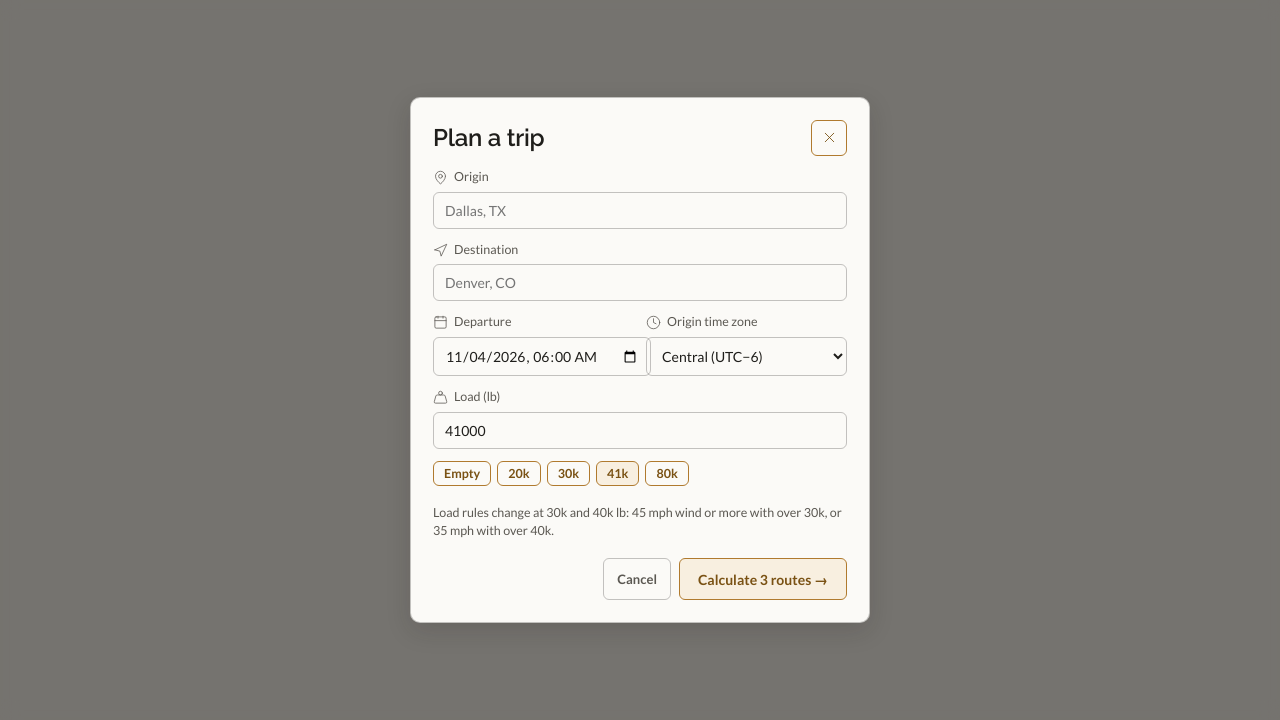
TripForm › does not submit an incomplete trip and names the missing field
This screenshot has width=1280, height=720.
Click the button "Calculate 3 routes →".
click(763, 579)  # box [679,558,847,600]
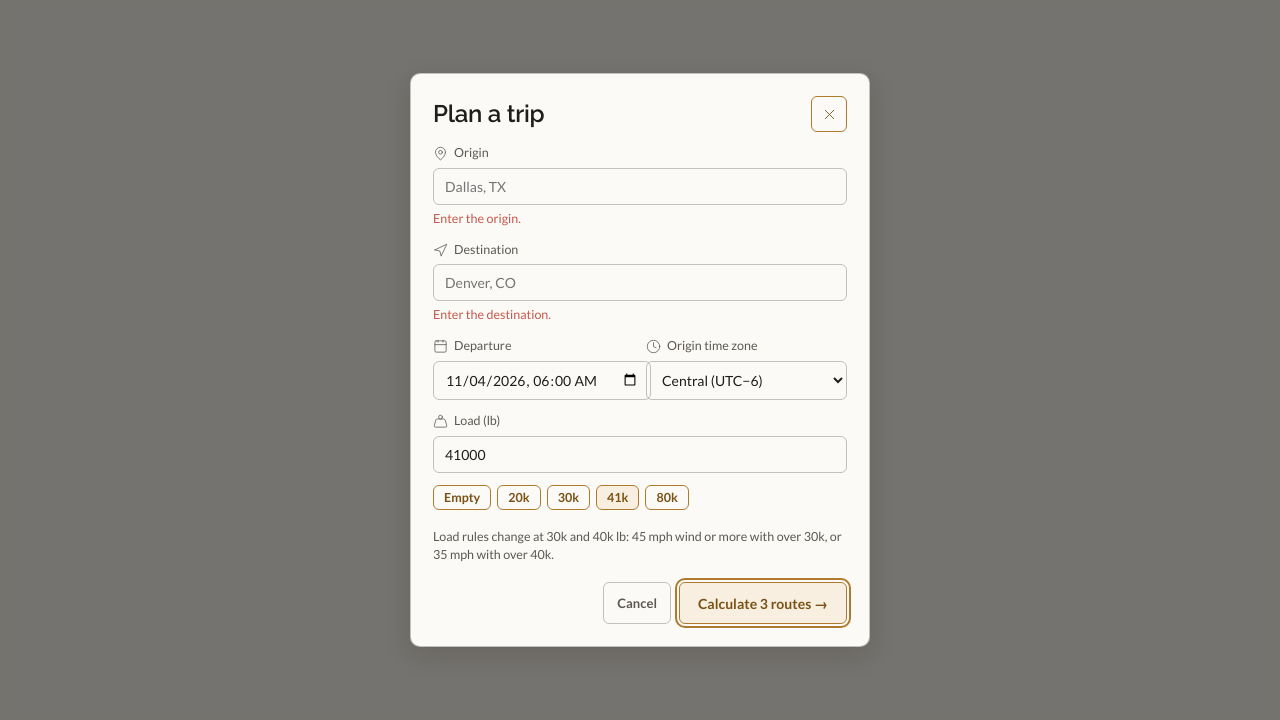
Result: the text "Enter the origin." is shown at [433,211,521,226]
